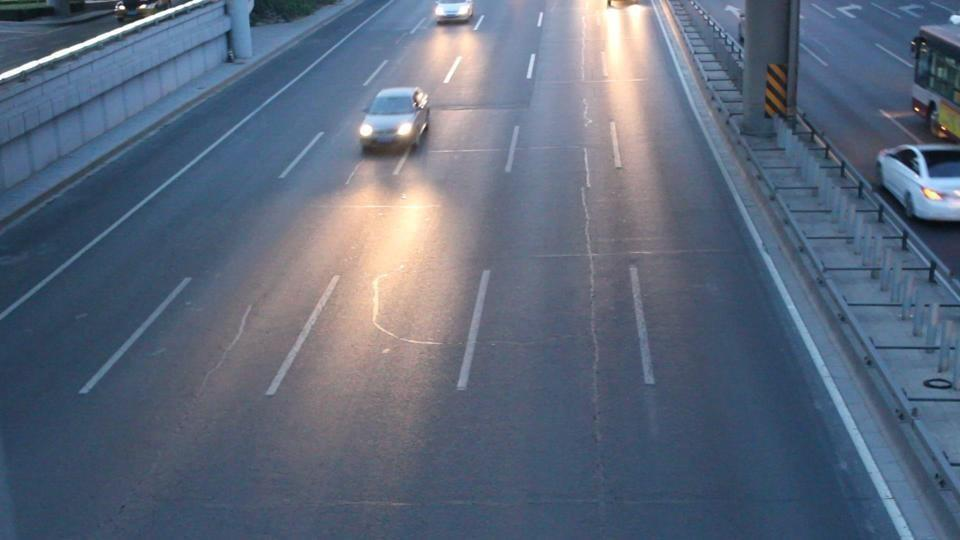car: (875, 142, 960, 222), (357, 86, 431, 155), (433, 0, 475, 26)
